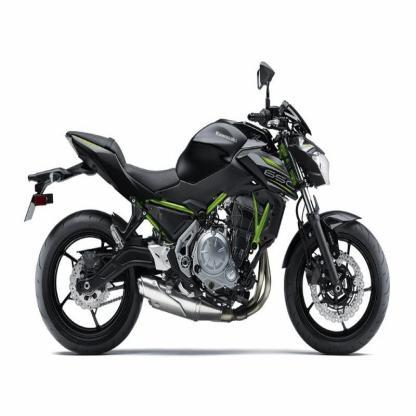Motorcycle: (20, 43, 397, 370)
